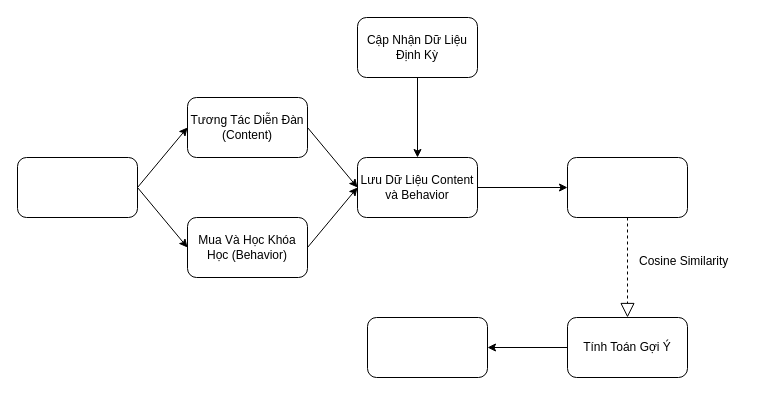
The diagram is 775 pixels wide and 395 high, and some of its shapes have lost their labels. Here are the shapes that lost their labels. From the top down, the box of each, then its label:
(16, 156, 138, 218): Người Dùng
(566, 156, 688, 218): Tự Động Cập Nhật Embedding
(366, 316, 488, 378): Trả Về k Diễn Đàn Phù Hợp Nhất
